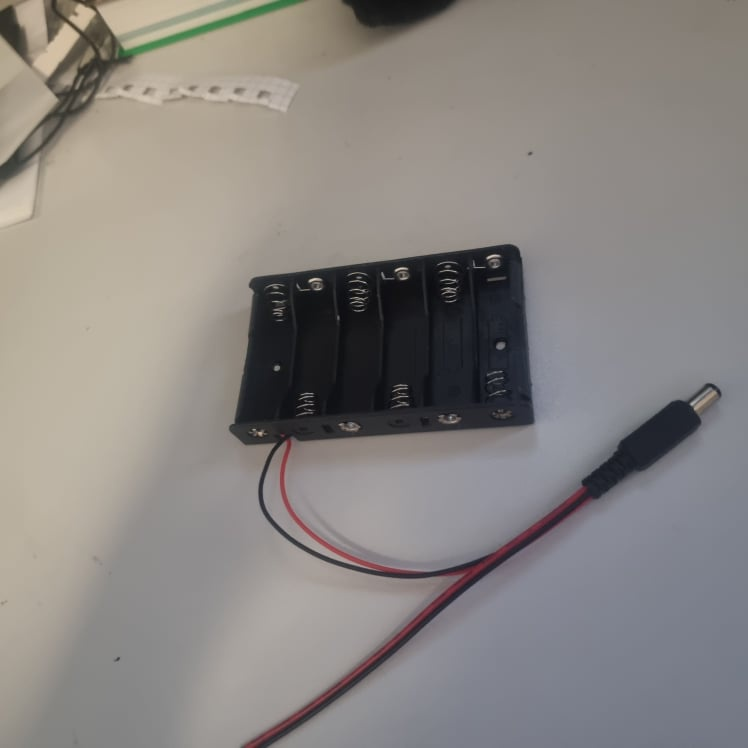BATTERY BOX: (227, 243, 538, 448)
